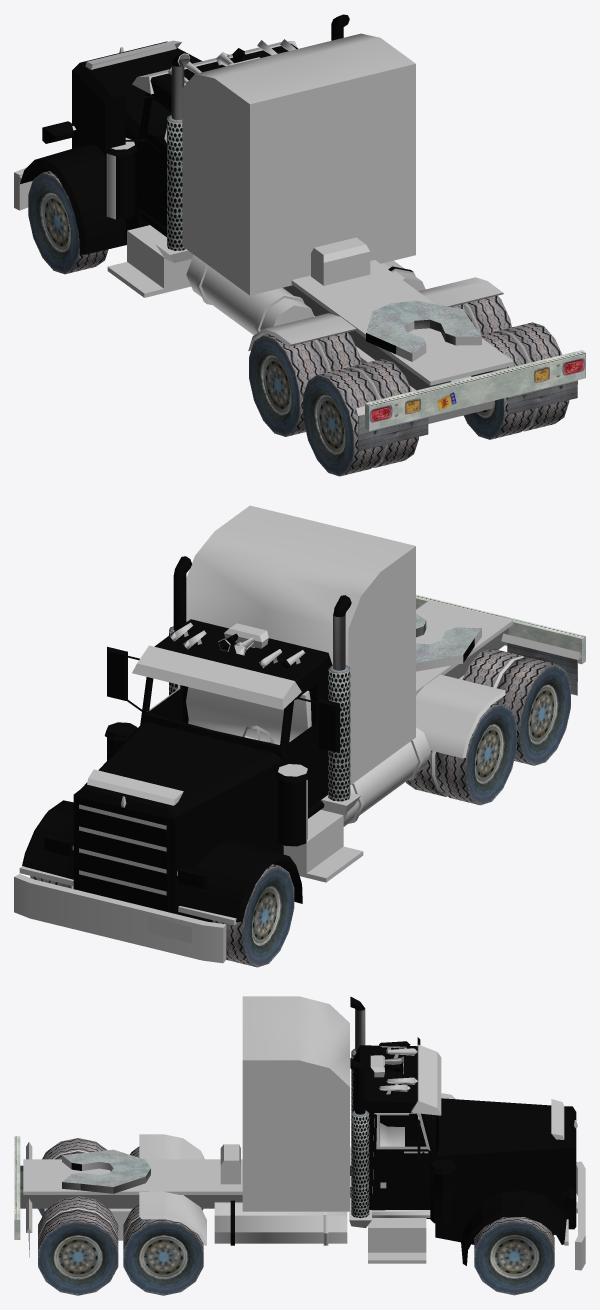
Rendered from Model_Trucks_Doser.fbx.
3 views of the same model, one above another, from view 1: azimuth 30°, elevation 25°; view 2: azimuth 150°, elevation 25°; view 3: azimuth 270°, elevation 25° (orthographic). The views are drawn at different scales.
Visible parts, largest first — view 1: Car_Body_LOD0, LB_Wheel1_LOD0, LB_Wheel_LOD0, RB_Wheel_LOD0, LF_Wheel_LOD0, RB_Wheel1_LOD0; view 2: Car_Body_LOD0, LB_Wheel1_LOD0, LB_Wheel_LOD0, LF_Wheel_LOD0; view 3: Car_Body_LOD0, RB_Wheel_LOD0, RB_Wheel1_LOD0, RF_Wheel_LOD0, LB_Wheel1_LOD0.
Boxes of the visible parts, x1,y1,x2,y2 form: Car_Body_LOD0: (14, 14, 585, 451); LB_Wheel1_LOD0: (303, 359, 418, 476); LB_Wheel_LOD0: (249, 332, 361, 436); RB_Wheel_LOD0: (463, 322, 569, 439); LF_Wheel_LOD0: (28, 171, 108, 274); RB_Wheel1_LOD0: (452, 295, 511, 334); Car_Body_LOD0: (14, 505, 585, 963); LB_Wheel1_LOD0: (462, 648, 570, 765); LB_Wheel_LOD0: (406, 702, 516, 805); LF_Wheel_LOD0: (212, 864, 294, 967); Car_Body_LOD0: (14, 996, 585, 1270); RB_Wheel_LOD0: (38, 1196, 118, 1295); RB_Wheel1_LOD0: (123, 1204, 203, 1295); RF_Wheel_LOD0: (474, 1217, 554, 1295); LB_Wheel1_LOD0: (38, 1138, 107, 1216).
Size of what is drawn, in the model's own units: 309 by 364 by 832.
